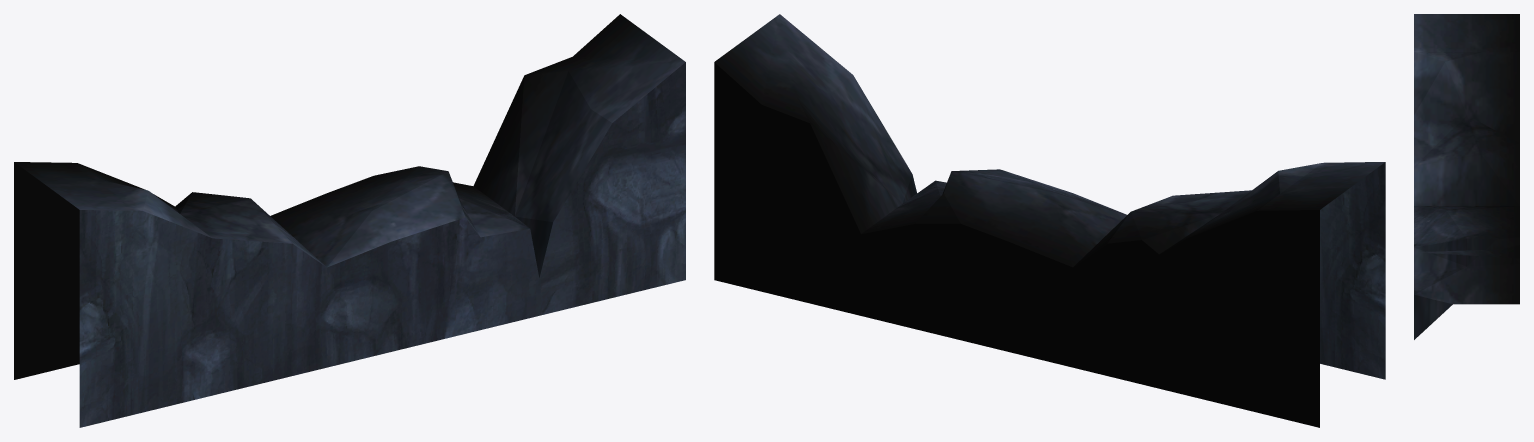
File: mine_broken_straight_01.fbx
3 views of the same model, side by side, from view 1: azimuth 30°, elevation 25°; view 2: azimuth 150°, elevation 25°; view 3: azimuth 270°, elevation 25° (orthographic). The views are drawn at different scales.
Parts seen in each view (by area): view 1: obj2.006; view 2: obj2.006; view 3: obj2.006.
Part boxes in pixels (x1,y1,x2,y2): obj2.006: (14, 14, 685, 427); obj2.006: (714, 14, 1385, 427); obj2.006: (1414, 14, 1519, 339).
Bounding box in the file's own units: 4 × 1.38 × 0.75.
